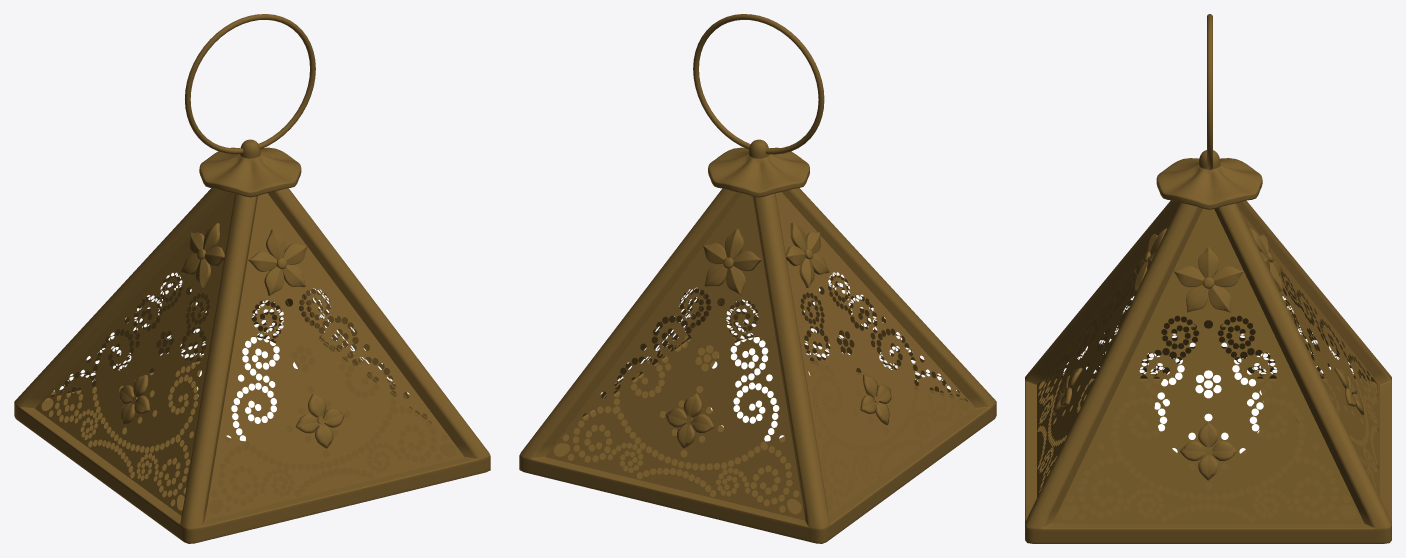
The model's file is MoroccanLatern.glb.
3 renders of one model, left to right at view 1: azimuth 30°, elevation 25°; view 2: azimuth 150°, elevation 25°; view 3: azimuth 270°, elevation 25°, orthographic. The views are drawn at different scales.
Visible parts, largest first — view 1: Object238_15 - Default_0, Sphere001; view 2: Object238_15 - Default_0, Sphere001; view 3: Object238_15 - Default_0, Sphere001.
Boxes of the visible parts, bbox=[...] form: Object238_15 - Default_0: bbox=[14, 14, 490, 543]; Sphere001: bbox=[197, 337, 297, 441]; Object238_15 - Default_0: bbox=[519, 14, 996, 543]; Sphere001: bbox=[710, 337, 810, 441]; Object238_15 - Default_0: bbox=[1025, 14, 1391, 543]; Sphere001: bbox=[1154, 360, 1263, 453].
Size of the model in its own units: 1.27 by 1.7 by 1.27.
